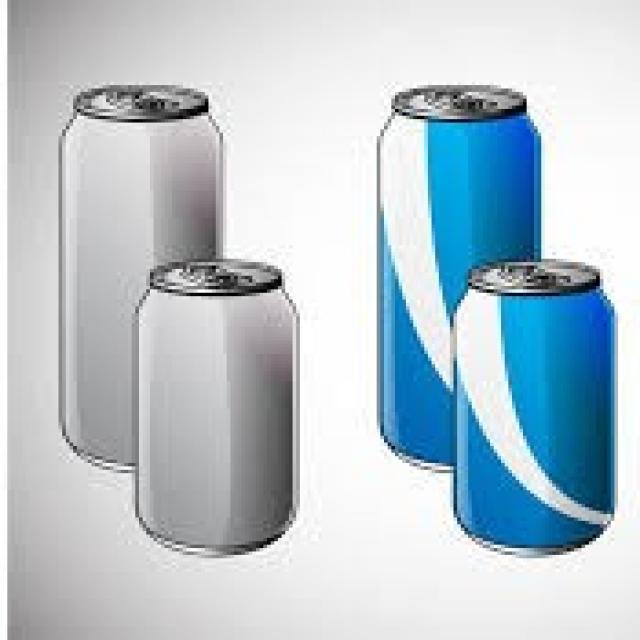Cans: (125, 245, 308, 562), (447, 252, 626, 568)
